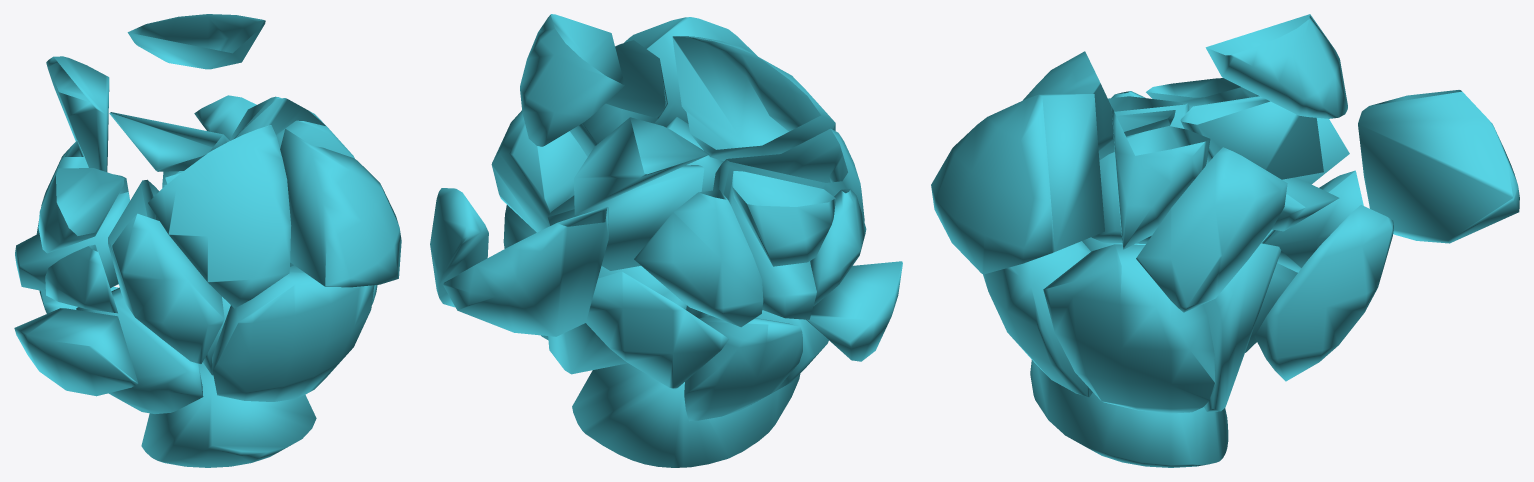
The model's file is abstractball7.glb.
3 renders of one model, left to right at view 1: azimuth 30°, elevation 25°; view 2: azimuth 150°, elevation 25°; view 3: azimuth 270°, elevation 25°, orthographic. The views are drawn at different scales.
Visible parts, largest first — view 1: Voronoi_Fracture.7; view 2: Voronoi_Fracture.7; view 3: Voronoi_Fracture.7.
Boxes of the visible parts, x1,y1,x2,y2 form: Voronoi_Fracture.7: (14,14,401,467); Voronoi_Fracture.7: (430,14,902,467); Voronoi_Fracture.7: (931,14,1519,467).
Size of what is drawn, in the model's own units: 3.33 by 3.6 by 4.36.
1 material, 1 textured.
